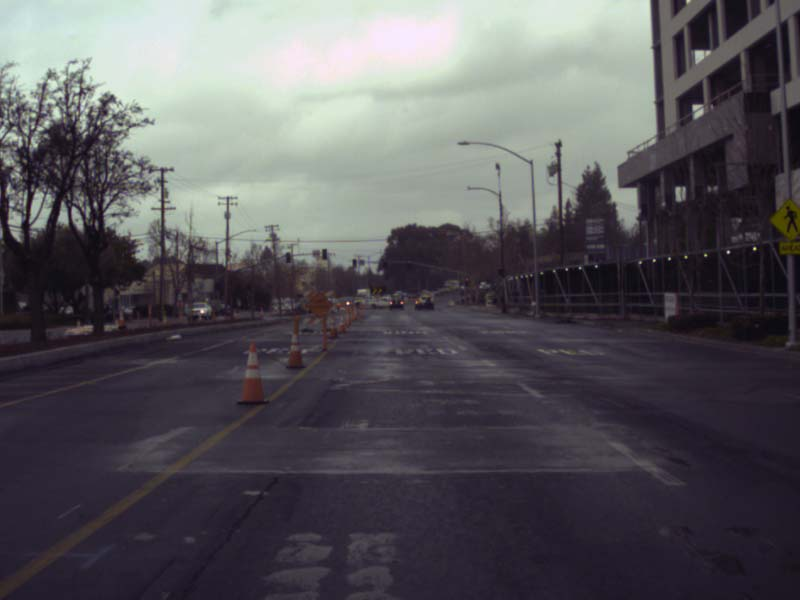Green: (353, 259, 356, 267)
Red: (407, 259, 410, 270), (464, 277, 468, 285), (382, 259, 385, 267)
